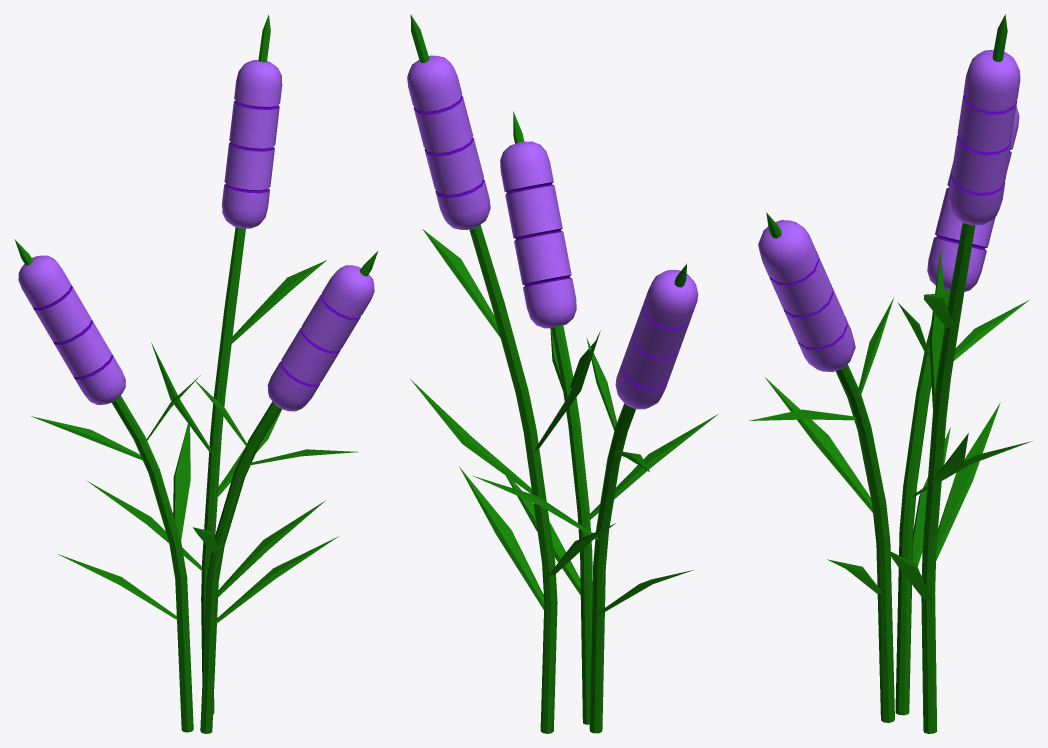
File: ReedsTriple.fbx
The picture shows the model from 3 angles, left to right: view 1: azimuth 30°, elevation 25°; view 2: azimuth 150°, elevation 25°; view 3: azimuth 270°, elevation 25°; orthographic projection. The views are drawn at different scales.
Parts seen in each view (by area): view 1: ReedsTriple_LOD0; view 2: ReedsTriple_LOD0; view 3: ReedsTriple_LOD0.
Part boxes in pixels (x1,y1,x2,y2): ReedsTriple_LOD0: (14, 14, 377, 733); ReedsTriple_LOD0: (407, 14, 718, 733); ReedsTriple_LOD0: (749, 14, 1032, 733).
Size of what is drawn, in the model's own units: 90.5 by 204 by 68.54.
